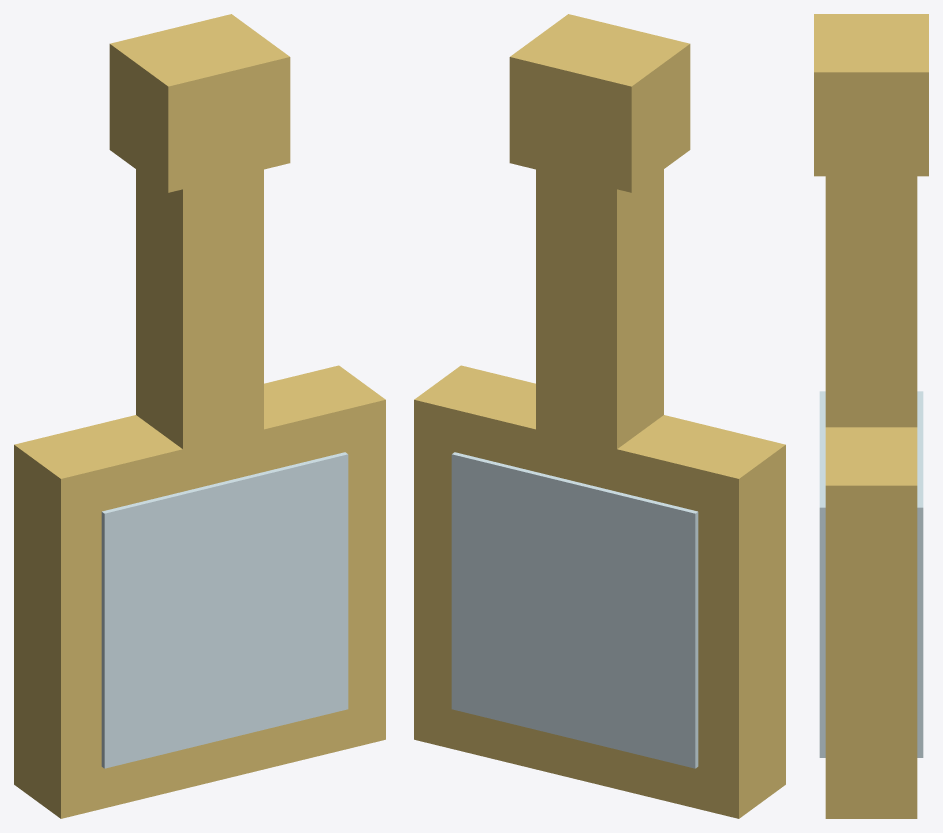
Rendered from lupa_detetive.glb.
3 renders of one model, left to right at view 1: azimuth 30°, elevation 25°; view 2: azimuth 150°, elevation 25°; view 3: azimuth 270°, elevation 25°, orthographic.
Visible parts, largest first — view 1: lupa_detetive; view 2: lupa_detetive; view 3: lupa_detetive.
Boxes of the visible parts, x1,y1,x2,y2 form: lupa_detetive: [14, 14, 385, 818]; lupa_detetive: [414, 14, 785, 818]; lupa_detetive: [814, 14, 928, 818].
Bounding box in the file's own units: 0.16 × 0.335 × 0.05.
